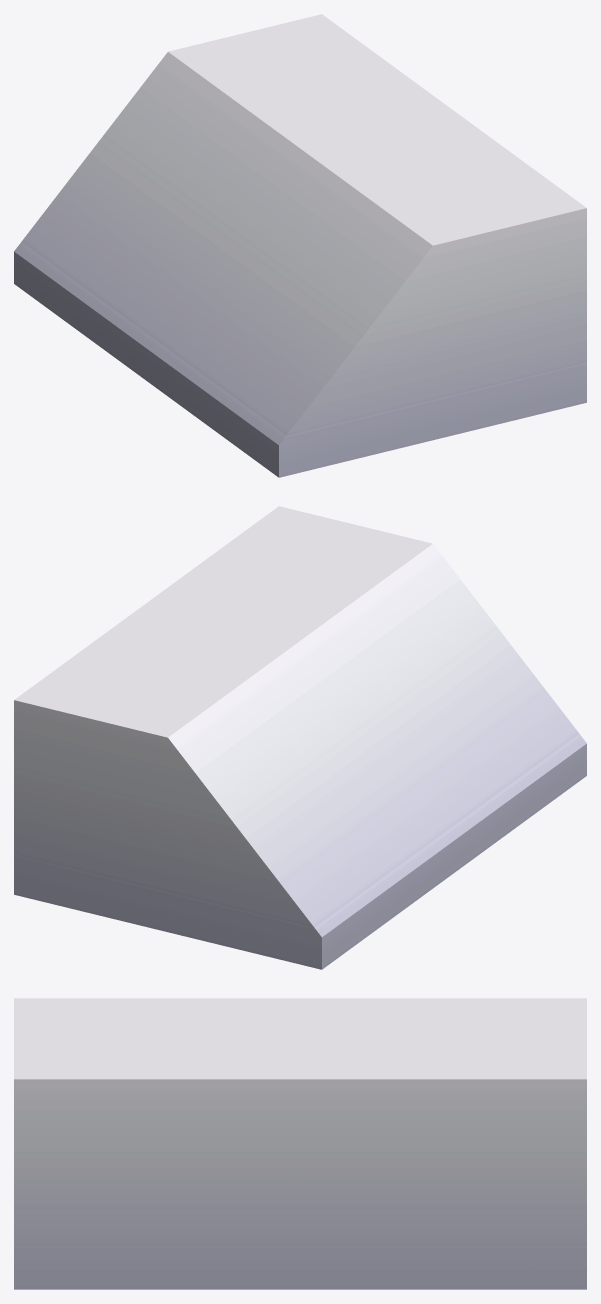
Rendered from none-lq-brick-slope-2x3.glb.
3 renders of one model, top to bottom at view 1: azimuth 30°, elevation 25°; view 2: azimuth 150°, elevation 25°; view 3: azimuth 270°, elevation 25°, orthographic. The views are drawn at different scales.
Parts seen in each view (by area): view 1: none-lq-brick-slope-2x3; view 2: none-lq-brick-slope-2x3; view 3: none-lq-brick-slope-2x3.
Boxes of the visible parts, x1,y1,x2,y2 form: none-lq-brick-slope-2x3: (14, 14, 586, 477); none-lq-brick-slope-2x3: (14, 506, 586, 969); none-lq-brick-slope-2x3: (14, 998, 586, 1289).
Bounding box in the file's own units: 0.159 × 0.096 × 0.237.
Materials: 1 (1 with a texture image).
